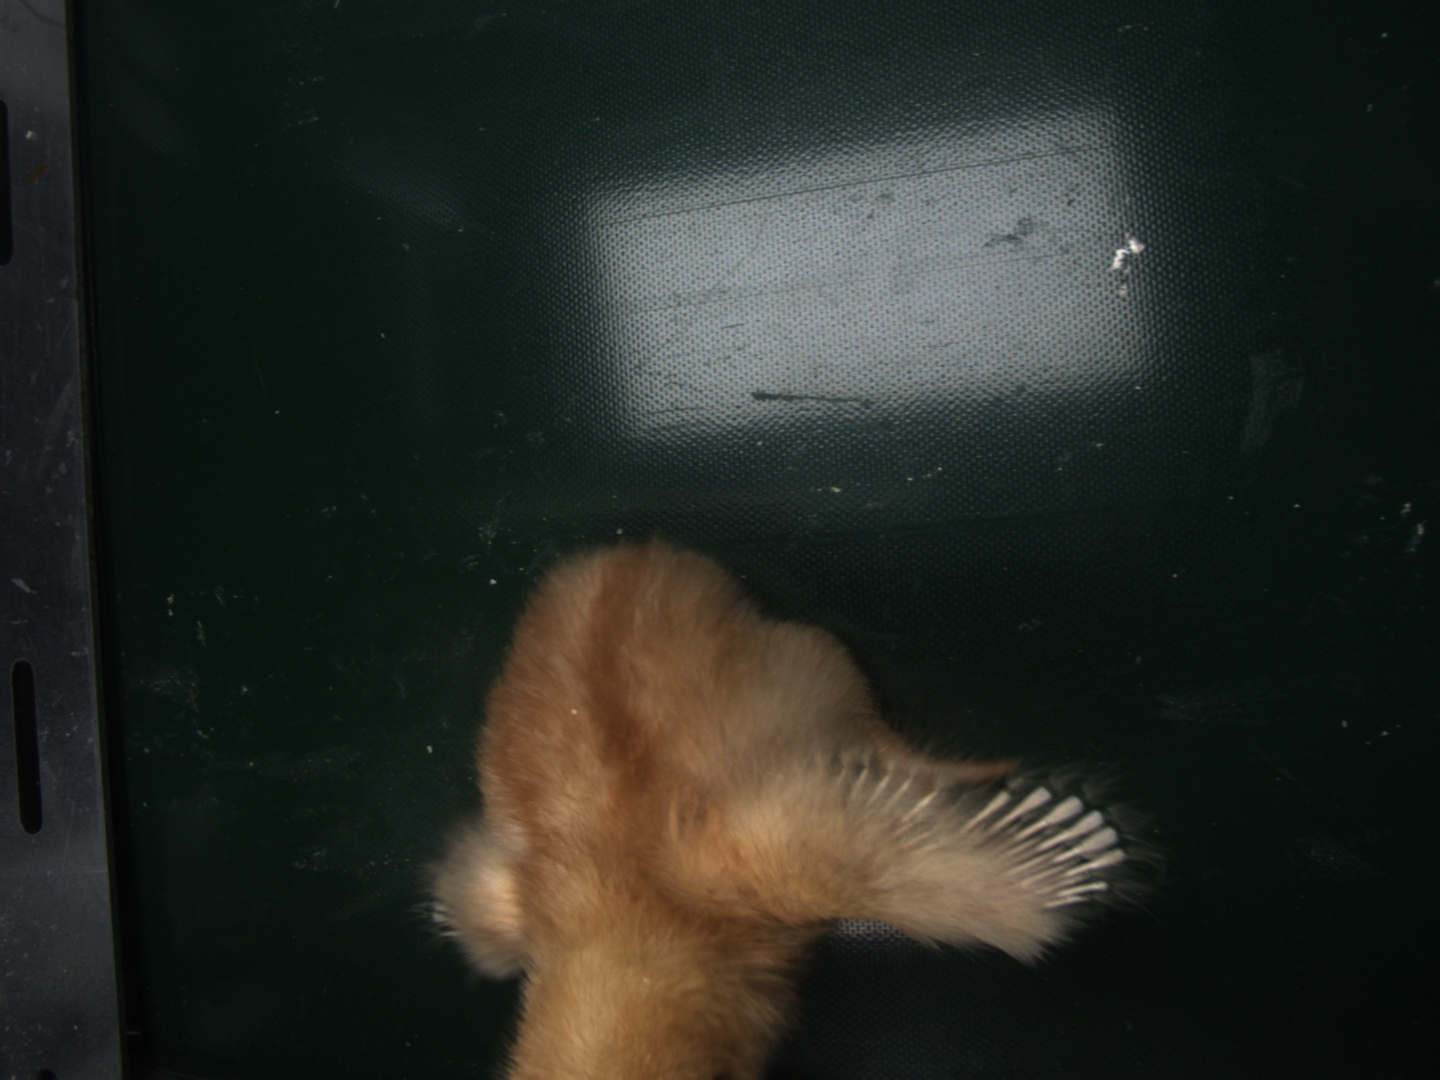female: (960, 784, 1128, 910)
